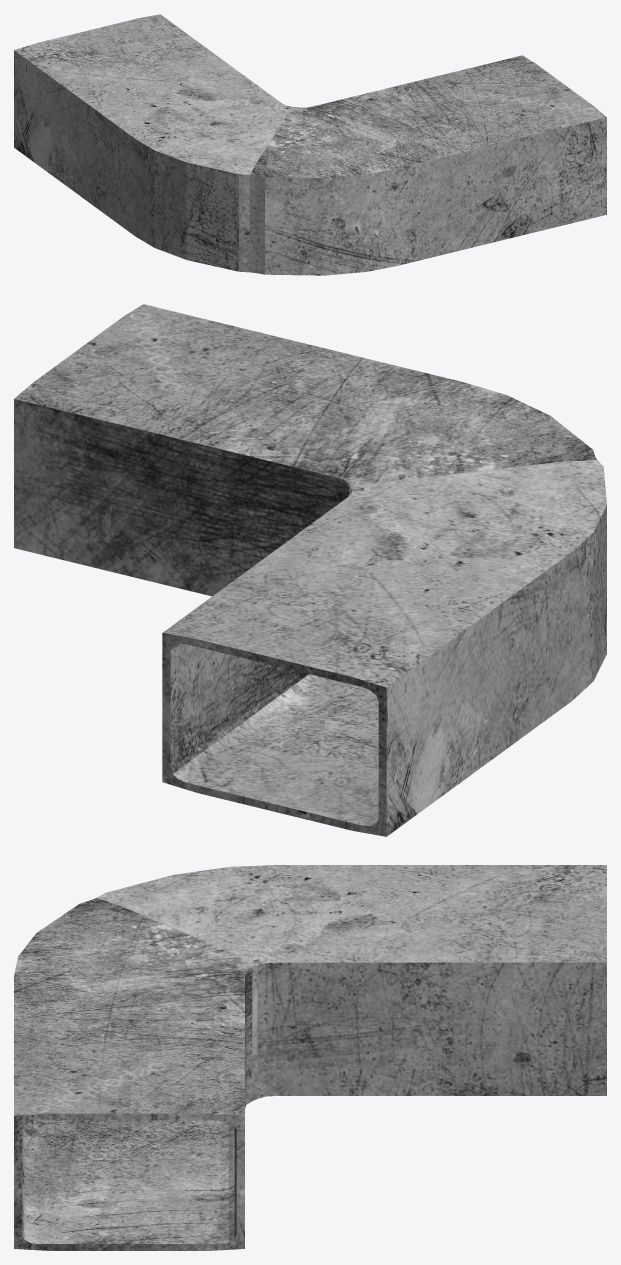
The model's file is vent_corner.fbx.
3 views of the same model, one above another, from view 1: azimuth 30°, elevation 25°; view 2: azimuth 150°, elevation 25°; view 3: azimuth 270°, elevation 25° (orthographic). The views are drawn at different scales.
Visible parts, largest first — view 1: Cube.010; view 2: Cube.010; view 3: Cube.010.
Boxes of the visible parts, left/top/right/bottom form: Cube.010: left=14, top=14, right=606, bottom=275; Cube.010: left=14, top=304, right=606, bottom=836; Cube.010: left=14, top=865, right=606, bottom=1250.
Size of the model in its own units: 6086 by 1554 by 6086.
